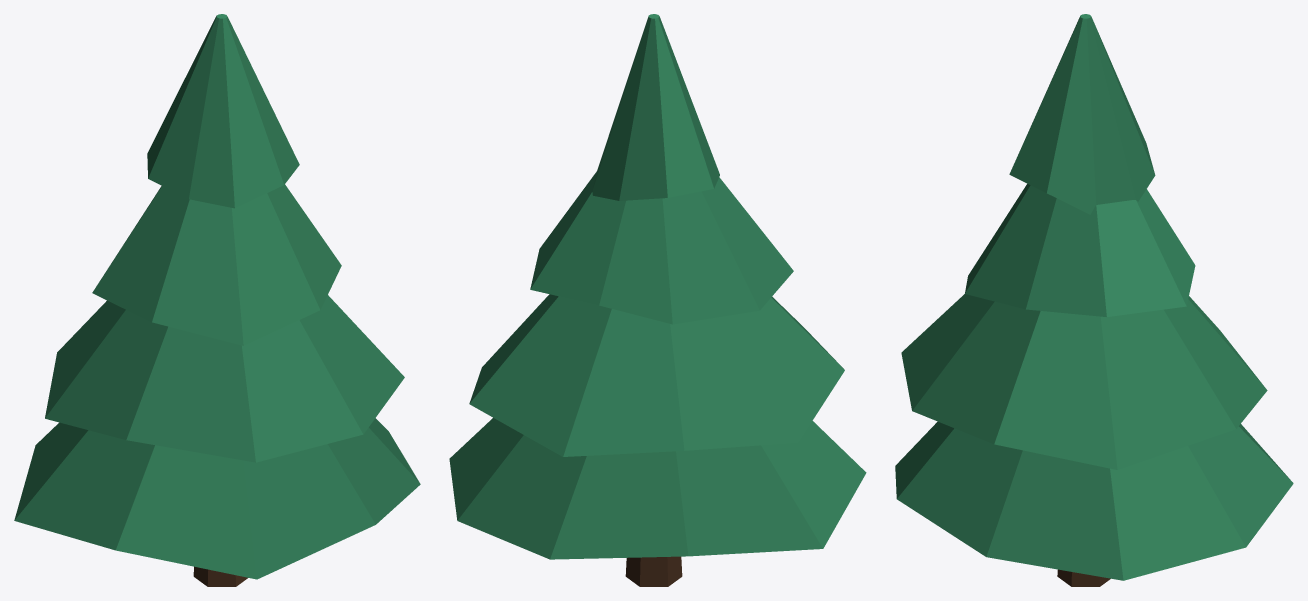
Rendered from tree_pine_0.glb.
3 views of the same model, side by side, from view 1: azimuth 30°, elevation 25°; view 2: azimuth 150°, elevation 25°; view 3: azimuth 270°, elevation 25° (orthographic).
Parts seen in each view (by area): view 1: tree_pine_0; view 2: tree_pine_0; view 3: tree_pine_0.
Boxes of the visible parts, bbox=[...] form: tree_pine_0: bbox=[14, 14, 420, 586]; tree_pine_0: bbox=[449, 14, 866, 586]; tree_pine_0: bbox=[895, 14, 1293, 586].
Bounding box in the file's own units: 4.58 × 6.55 × 4.22.
